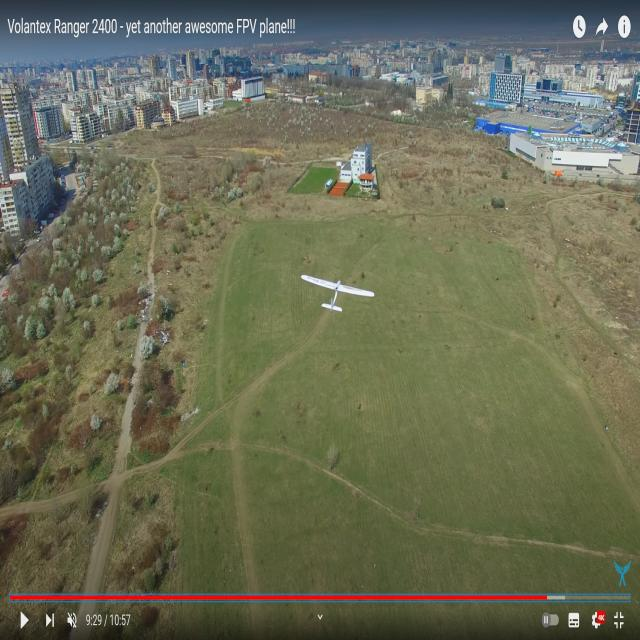iha: (336, 268, 340, 320)
